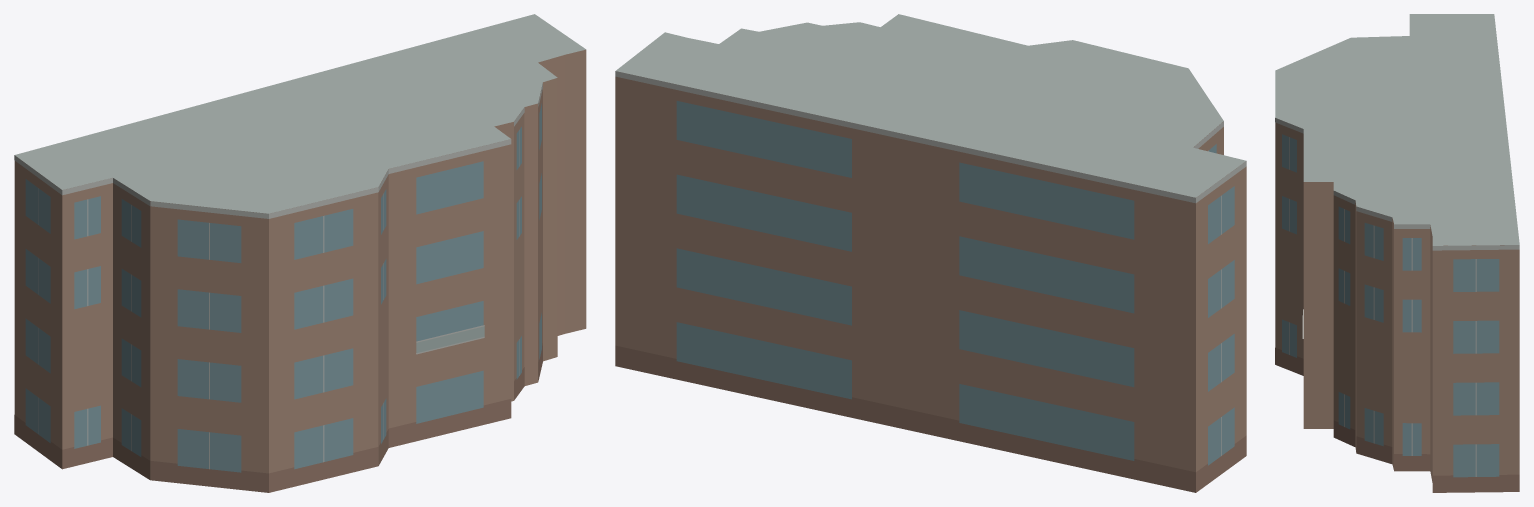
The model's file is survey-upis-32578678.glb.
3 renders of one model, left to right at view 1: azimuth 30°, elevation 25°; view 2: azimuth 150°, elevation 25°; view 3: azimuth 270°, elevation 25°, orthographic. The views are drawn at different scales.
Visible parts, largest first — view 1: survey-upis-32578678.tmp; view 2: survey-upis-32578678.tmp; view 3: survey-upis-32578678.tmp.
Boxes of the visible parts, x1=… form: survey-upis-32578678.tmp: x1=14, y1=14, x2=586, y2=492; survey-upis-32578678.tmp: x1=615, y1=14, x2=1246, y2=492; survey-upis-32578678.tmp: x1=1275, y1=14, x2=1519, y2=492.
Size of the model in its own units: 25.99 by 12.9 by 11.59.
